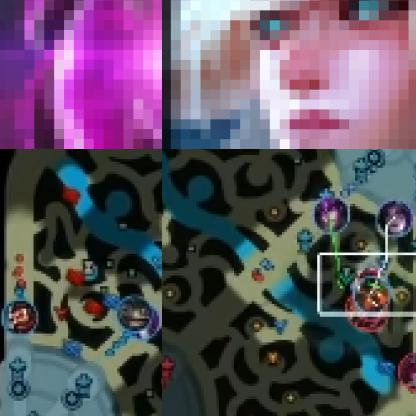Graves: (1, 302, 39, 335)
Janna: (162, 0, 415, 148)
Jinx: (129, 306, 161, 340)
Kai-sa: (378, 199, 414, 236)
Lee Sin: (357, 266, 392, 303)
Nautilus: (355, 276, 391, 312)
Syndra: (314, 196, 351, 234)
Tahm Kench: (118, 296, 152, 331)
Vel-koz: (0, 0, 161, 148)
Xayah: (397, 351, 415, 393)
